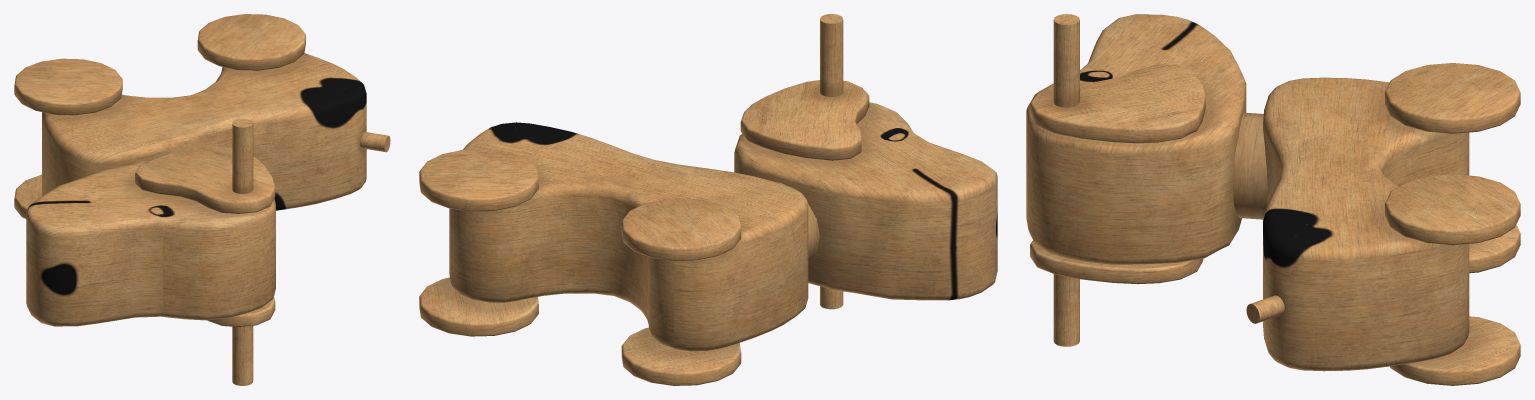
File: dogtoy.obj
3 renders of one model, left to right at view 1: azimuth 30°, elevation 25°; view 2: azimuth 150°, elevation 25°; view 3: azimuth 270°, elevation 25°, orthographic. The views are drawn at different scales.
Visible parts, largest first — view 1: Cube.004, Cube.003, Cylinder.006, Cylinder.008, Cylinder.009, Cylinder.010; view 2: Cube.003, Cube.004, Cylinder.006, Cylinder.008, Cylinder.009, Cylinder.007; view 3: Cube.003, Cube.004, Cylinder.006, Cylinder.008, Cylinder.009, Cylinder.007, Cylinder.010.
Boxes of the visible parts, x1=… form: Cube.004: x1=26, y1=161, x2=275, y2=326; Cube.003: x1=42, y1=53, x2=366, y2=210; Cylinder.006: x1=14, y1=14, x2=305, y2=218; Cylinder.008: x1=135, y1=146, x2=275, y2=326; Cylinder.009: x1=232, y1=118, x2=253, y2=385; Cylinder.010: x1=360, y1=132, x2=390, y2=152; Cube.003: x1=449, y1=122, x2=808, y2=351; Cube.004: x1=734, y1=102, x2=997, y2=300; Cylinder.006: x1=419, y1=149, x2=741, y2=385; Cylinder.008: x1=740, y1=80, x2=869, y2=160; Cylinder.009: x1=820, y1=14, x2=843, y2=309; Cylinder.007: x1=777, y1=182, x2=819, y2=262; Cube.003: x1=1263, y1=77, x2=1469, y2=371; Cube.004: x1=1026, y1=14, x2=1246, y2=264; Cylinder.006: x1=1385, y1=63, x2=1520, y2=385; Cylinder.008: x1=1030, y1=64, x2=1205, y2=284; Cylinder.009: x1=1053, y1=14, x2=1079, y2=346; Cylinder.007: x1=1232, y1=112, x2=1267, y2=219; Cylinder.010: x1=1246, y1=295, x2=1284, y2=323.
Bounding box in the file's own units: 7.74 × 4.76 × 6.64.
Materials: 1 (1 with a texture image).
